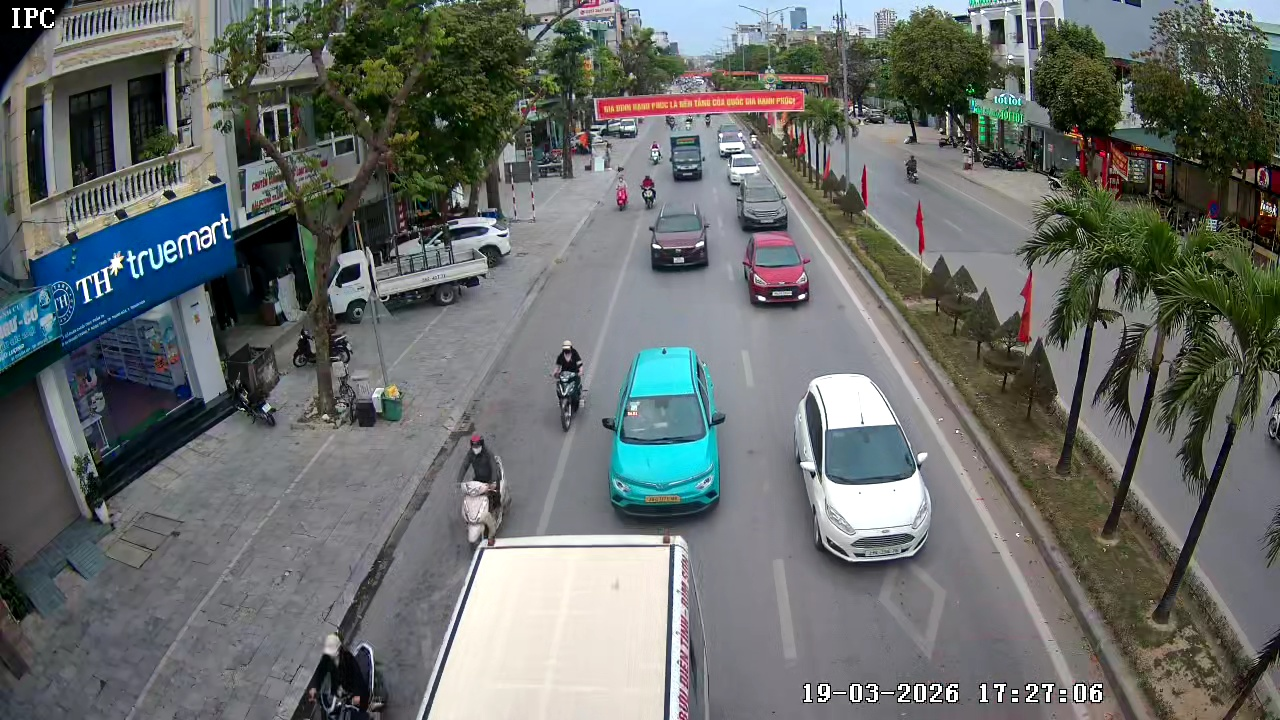bus: (415, 530, 708, 719)
car: (792, 372, 935, 561), (600, 345, 728, 517), (740, 232, 812, 308), (646, 201, 712, 271), (735, 175, 790, 231), (728, 152, 756, 187), (716, 132, 741, 160)
motorbike: (455, 430, 511, 553), (548, 337, 589, 431), (1266, 362, 1279, 459), (613, 170, 631, 211), (639, 171, 658, 209), (646, 138, 660, 166)
truck: (669, 136, 705, 181)
